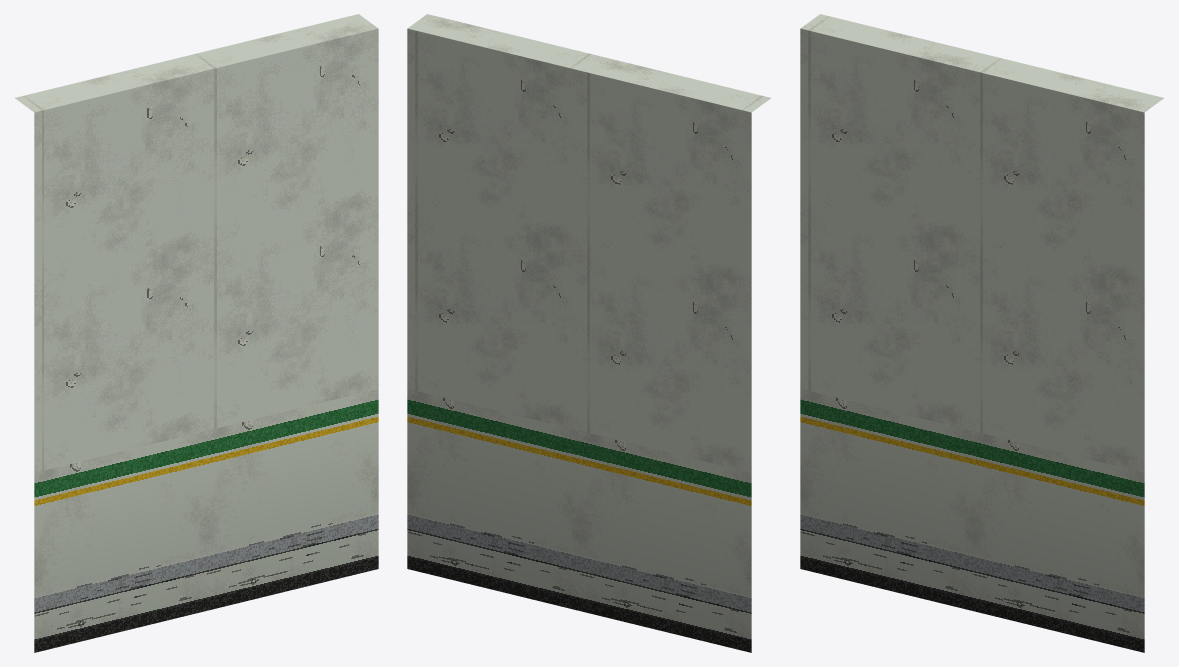
Rendered from wall_market.glb.
The picture shows the model from 3 angles, left to right: view 1: azimuth 30°, elevation 25°; view 2: azimuth 150°, elevation 25°; view 3: azimuth 330°, elevation 25°; orthographic projection.
Visible parts, largest first — view 1: wall_market; view 2: wall_market; view 3: wall_market.
Part boxes in pixels (<box>): wall_market: <box>15,14,378,652</box>; wall_market: <box>407,14,770,652</box>; wall_market: <box>800,14,1163,652</box>.
Size of the model in its own units: 2 by 3 by 0.2.
Materials: 1 (1 with a texture image).
